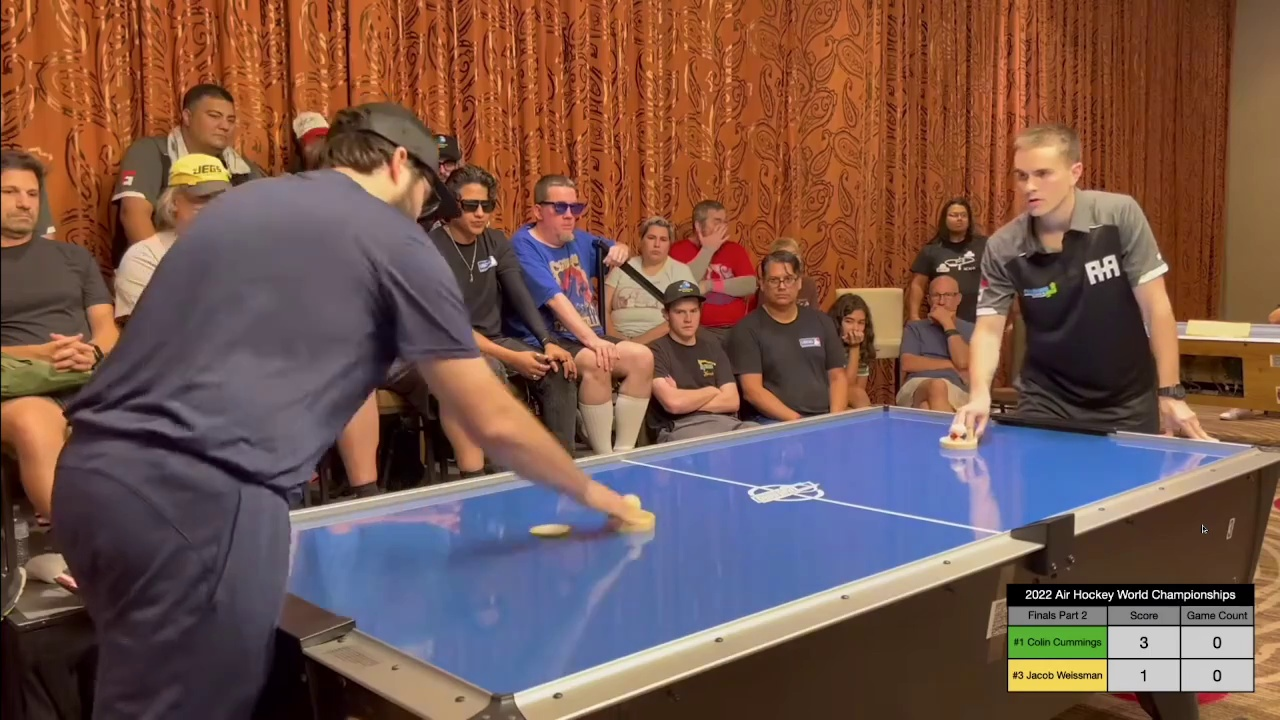player: (605, 493, 660, 532), (937, 421, 978, 448)
puck: (528, 521, 576, 539)
table: (183, 405, 1280, 699)
